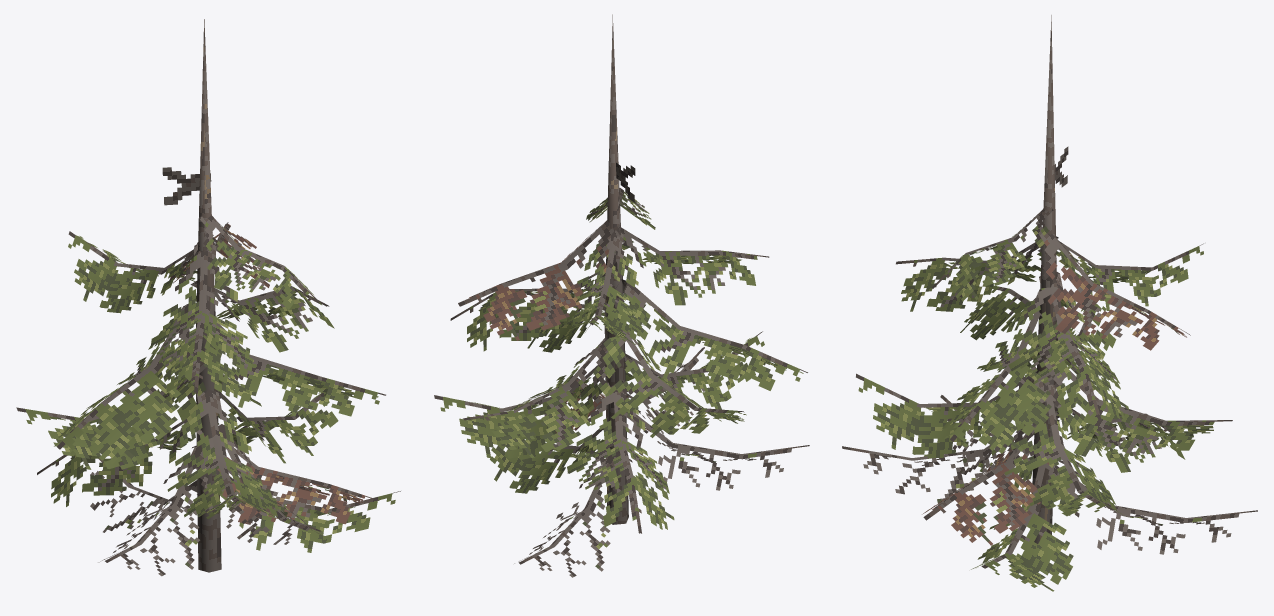
Rendered from SpruceSapling1.glb.
3 views of the same model, side by side, from view 1: azimuth 30°, elevation 25°; view 2: azimuth 150°, elevation 25°; view 3: azimuth 270°, elevation 25° (orthographic). The views are drawn at different scales.
Parts seen in each view (by area): view 1: SpruceSapling1; view 2: SpruceSapling1; view 3: SpruceSapling1.
Boxes of the visible parts, x1,y1,x2,y2 form: SpruceSapling1: (16, 19, 400, 576); SpruceSapling1: (434, 14, 809, 577); SpruceSapling1: (842, 15, 1257, 591).
Bounding box in the file's own units: 2.92 × 4.41 × 3.11.
Materials: 2 (2 with a texture image).
